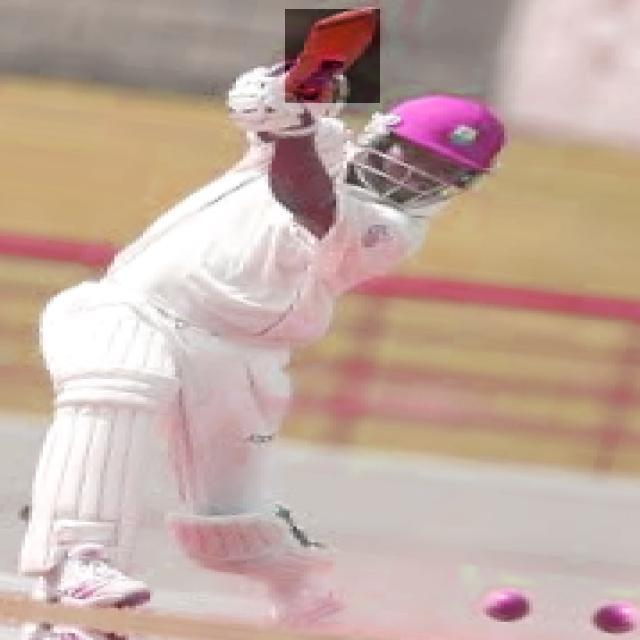bat: (286, 8, 381, 105)
toe: (317, 9, 377, 33)
